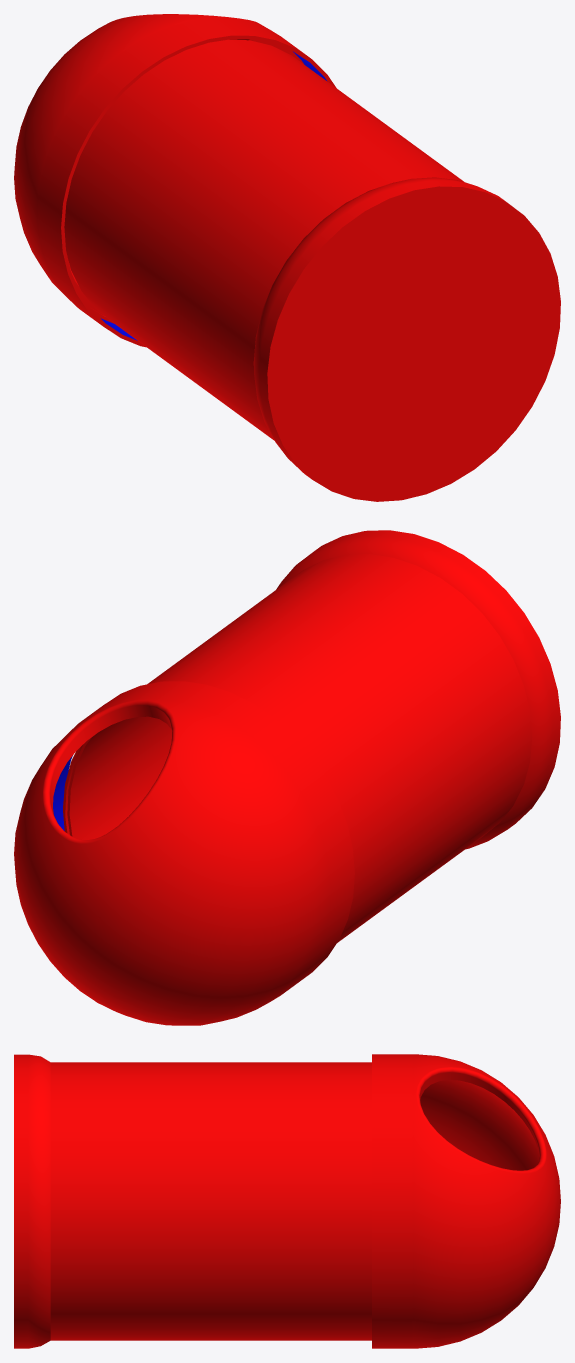
File: caneca roja.fbx
The picture shows the model from 3 angles, top to bottom: view 1: azimuth 30°, elevation 25°; view 2: azimuth 150°, elevation 25°; view 3: azimuth 270°, elevation 25°; orthographic projection. The views are drawn at different scales.
Visible parts, largest first — view 1: Cut-Extrude1, Fillet3; view 2: Cut-Extrude1, Fillet3; view 3: Cut-Extrude1, Fillet3.
Part boxes in pixels (box(x1,y1,x2,y2)): Cut-Extrude1: box(64, 39, 560, 501); Fillet3: box(14, 14, 336, 347); Cut-Extrude1: box(63, 530, 560, 942); Fillet3: box(14, 681, 354, 1025); Cut-Extrude1: box(14, 1054, 371, 1348); Fillet3: box(372, 1054, 560, 1348).
Bounding box in the file's own units: 3.15 × 3.15 × 5.85.
